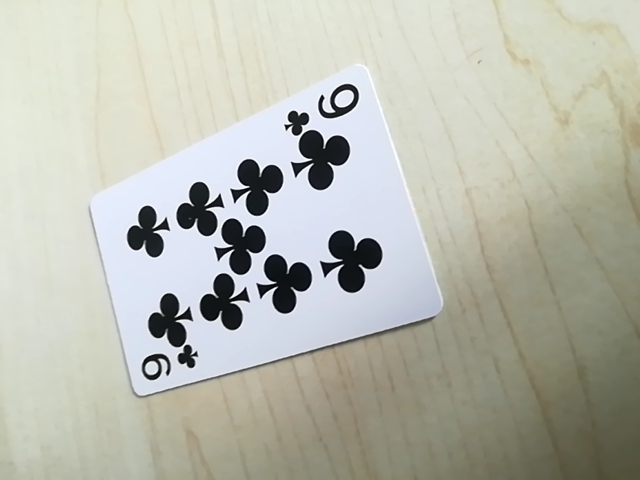mh 9: (280, 79, 368, 132), (133, 341, 200, 390)
